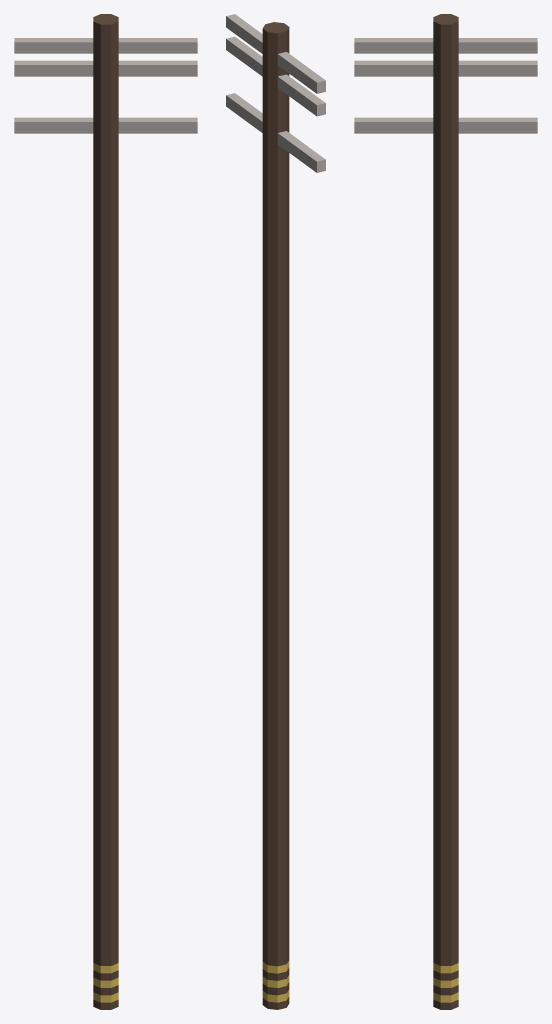
The model's file is telephonepole.fbx.
3 renders of one model, left to right at view 1: azimuth 90°, elevation 25°; view 2: azimuth 210°, elevation 25°; view 3: azimuth 270°, elevation 25°, orthographic.
Visible parts, largest first — view 1: Circle, Circle.001, Circle.002, Circle.004, Circle.005, Circle.003, Circle.006; view 2: Circle, Circle.002, Circle.003, Circle.001, Circle.004, Circle.005, Circle.006; view 3: Circle, Circle.001, Circle.002, Circle.004, Circle.005, Circle.003, Circle.006.
Part boxes in pixels (left/top/right/bottom): Circle: left=93, top=14, right=118, bottom=1009; Circle.001: left=14, top=117, right=93, bottom=133; Circle.002: left=14, top=60, right=93, bottom=76; Circle.004: left=118, top=117, right=197, bottom=133; Circle.005: left=118, top=60, right=197, bottom=76; Circle.003: left=14, top=38, right=93, bottom=53; Circle.006: left=118, top=38, right=197, bottom=53; Circle: left=262, top=22, right=289, bottom=1009; Circle.002: left=277, top=74, right=325, bottom=116; Circle.003: left=277, top=52, right=325, bottom=93; Circle.001: left=277, top=131, right=325, bottom=172; Circle.004: left=226, top=93, right=262, bottom=132; Circle.005: left=226, top=36, right=262, bottom=76; Circle.006: left=226, top=14, right=262, bottom=53; Circle: left=433, top=14, right=458, bottom=1009; Circle.001: left=458, top=117, right=537, bottom=133; Circle.002: left=458, top=60, right=537, bottom=76; Circle.004: left=354, top=117, right=433, bottom=133; Circle.005: left=354, top=60, right=433, bottom=76; Circle.003: left=458, top=38, right=537, bottom=53; Circle.006: left=354, top=38, right=433, bottom=53.
Bounding box in the file's own units: 41.52 × 1800 × 303.
